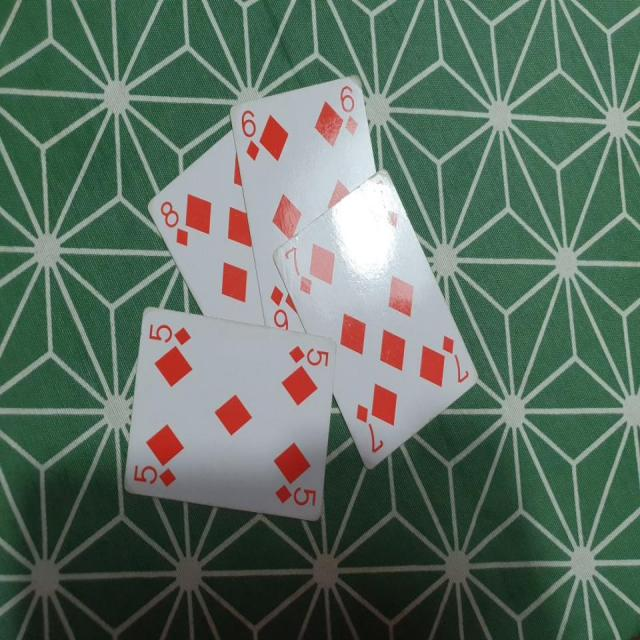5 Diamonds: (122, 306, 335, 522)
6 Diamonds: (230, 77, 375, 326)
7 Diamonds: (272, 165, 481, 472)
8 Diamonds: (146, 131, 266, 325)
